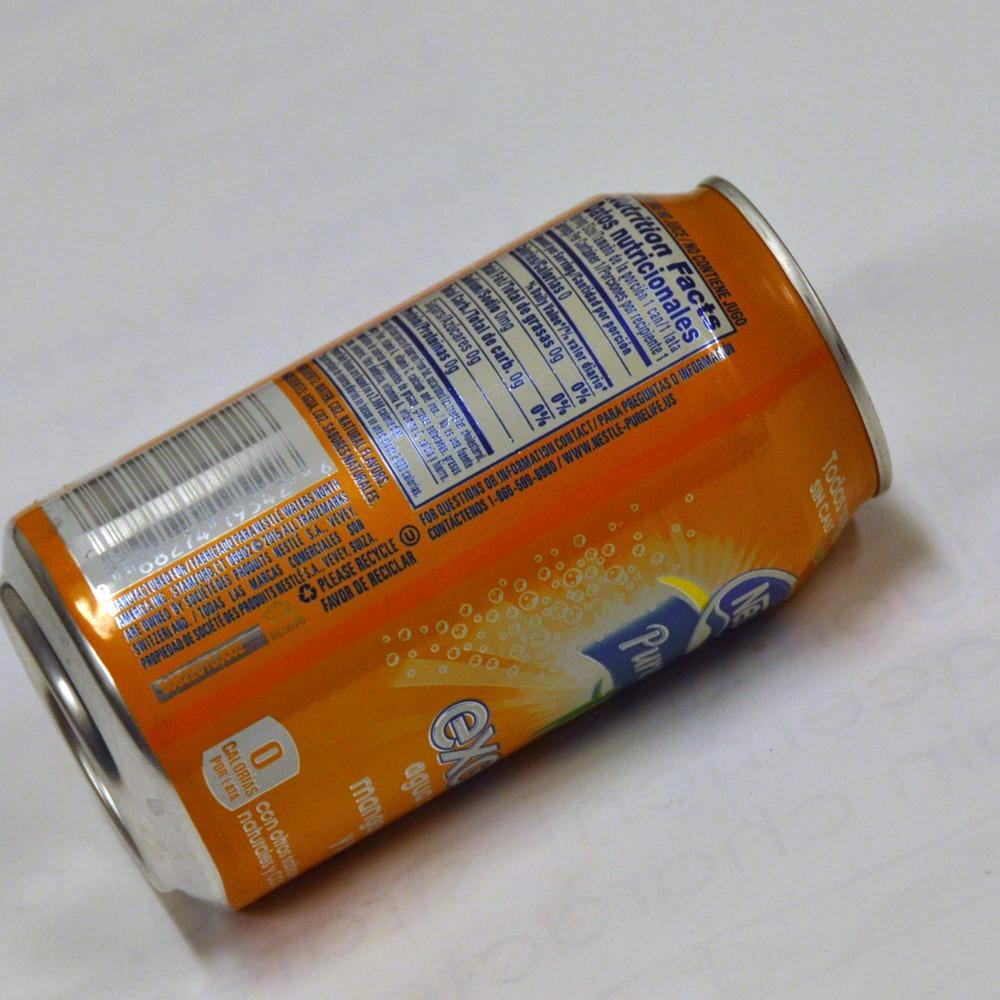Metal: (23, 148, 900, 928)
